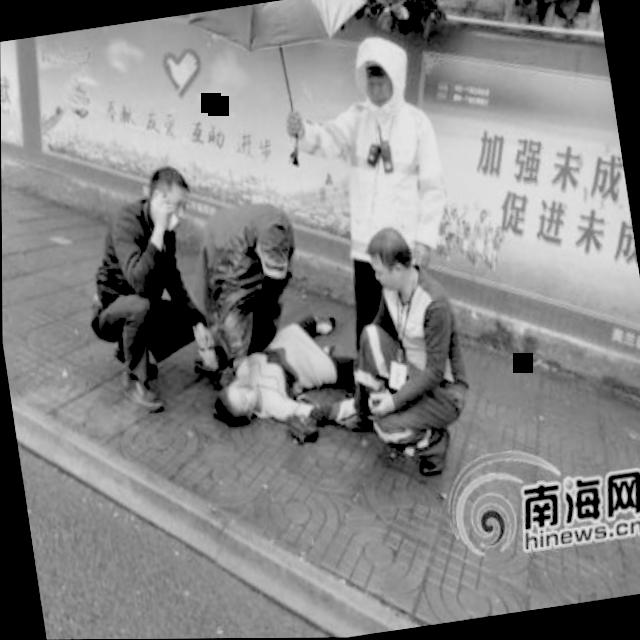Fall-Detected: (185, 292, 384, 462)
